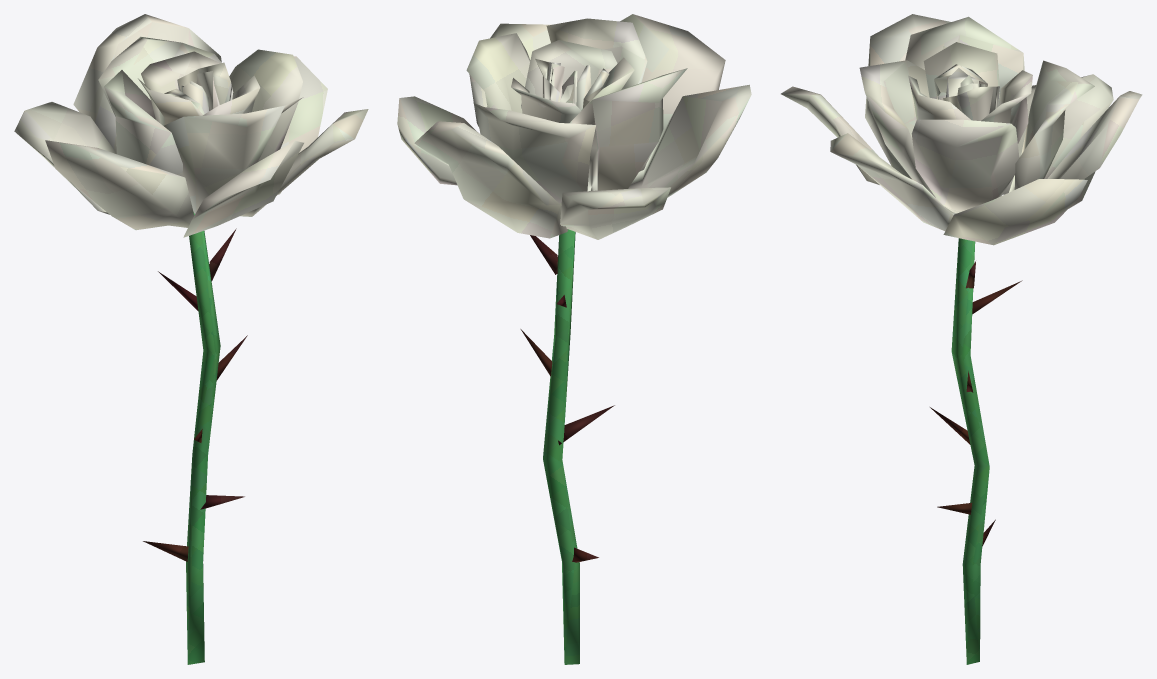
The model's file is white_rose.fbx.
3 renders of one model, left to right at view 1: azimuth 30°, elevation 25°; view 2: azimuth 150°, elevation 25°; view 3: azimuth 270°, elevation 25°, orthographic.
Parts seen in each view (by area): view 1: white_rose; view 2: white_rose; view 3: white_rose.
Boxes of the visible parts, <box> form: white_rose: <box>14,14,368,664</box>; white_rose: <box>397,14,751,664</box>; white_rose: <box>781,14,1142,664</box>.
Size of the model in its own units: 20.88 by 40.39 by 22.12.
